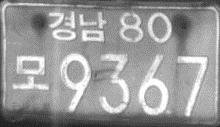0: (147, 11, 172, 43)
3: (97, 51, 130, 116)
6: (136, 52, 170, 115)
7: (174, 54, 210, 118)
8: (118, 10, 144, 43)
9: (58, 51, 91, 112)
경남_O: (46, 10, 107, 43)
모: (10, 53, 51, 93)
